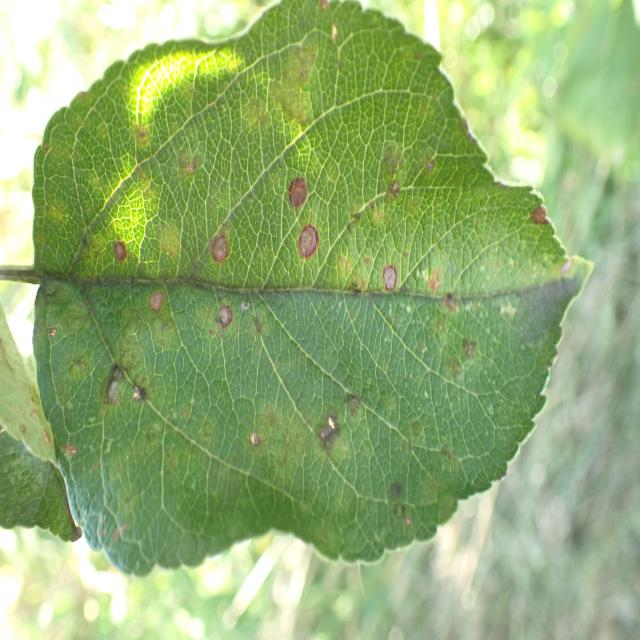frog-eye-leaf-spot: (32, 0, 596, 578)
